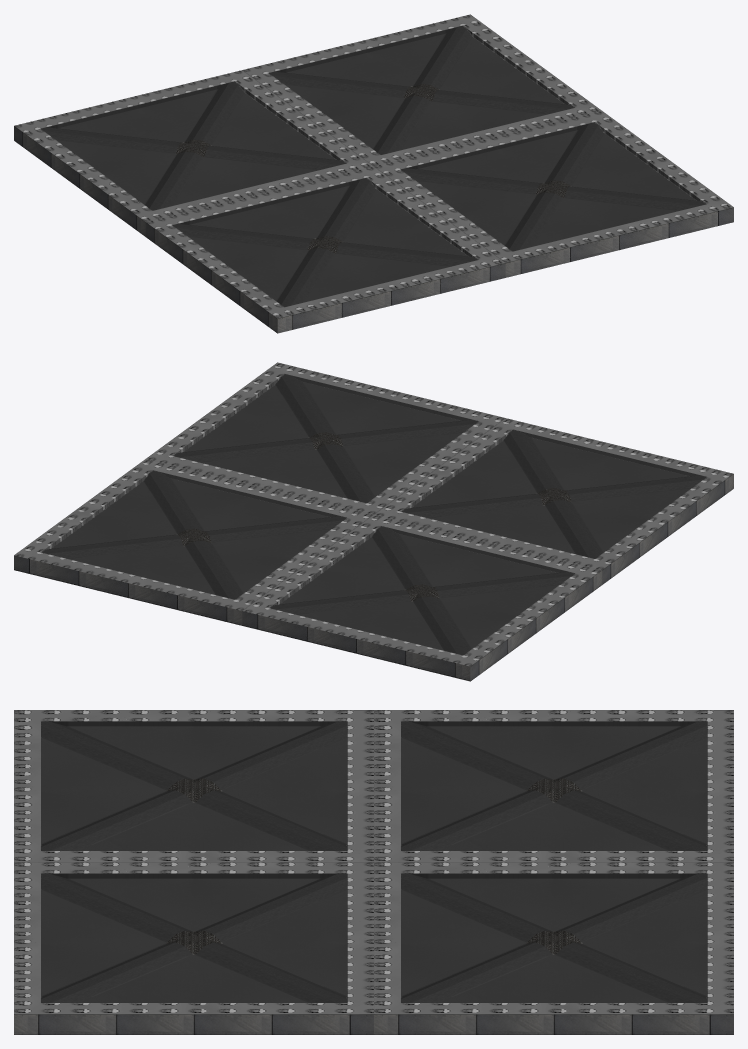
File: UMOD_Prop-Square-2x2_.fbx
The picture shows the model from 3 angles, top to bottom: view 1: azimuth 30°, elevation 25°; view 2: azimuth 150°, elevation 25°; view 3: azimuth 270°, elevation 25°; orthographic projection. The views are drawn at different scales.
Visible parts, largest first — view 1: pCube6, pCube7, pCube8, pCube9; view 2: pCube8, pCube9, pCube6, pCube7; view 3: pCube7, pCube9, pCube6, pCube8.
Boxes of the visible parts, left/top/right/bottom form: pCube6: left=145, top=166, right=505, bottom=333; pCube7: left=374, top=111, right=733, bottom=277; pCube8: left=14, top=70, right=373, bottom=236; pCube9: left=242, top=14, right=601, bottom=166; pCube8: left=242, top=514, right=602, bottom=681; pCube9: left=14, top=459, right=373, bottom=625; pCube6: left=374, top=418, right=733, bottom=584; pCube7: left=146, top=362, right=505, bottom=514; pCube7: left=14, top=862, right=373, bottom=1034; pCube9: left=374, top=862, right=733, bottom=1034; pCube6: left=14, top=710, right=373, bottom=862; pCube8: left=374, top=710, right=733, bottom=862.
Bounding box in the file's own units: 16 × 0.5 × 16.
Materials: 1 (1 with a texture image).
